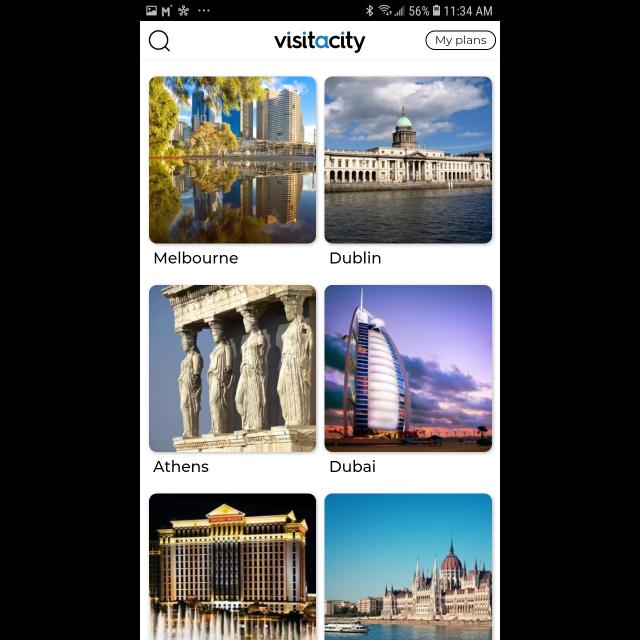icon: (149, 30, 171, 52)
image: (324, 76, 492, 244), (324, 286, 492, 452), (150, 76, 316, 244), (150, 286, 316, 452), (324, 494, 492, 640), (150, 494, 316, 640), (274, 31, 366, 53)
text: (154, 252, 238, 264), (154, 460, 210, 472), (331, 252, 381, 264), (330, 460, 376, 472)
textbutton: (424, 31, 496, 51)
uppertaskbar: (140, 1, 500, 22)
